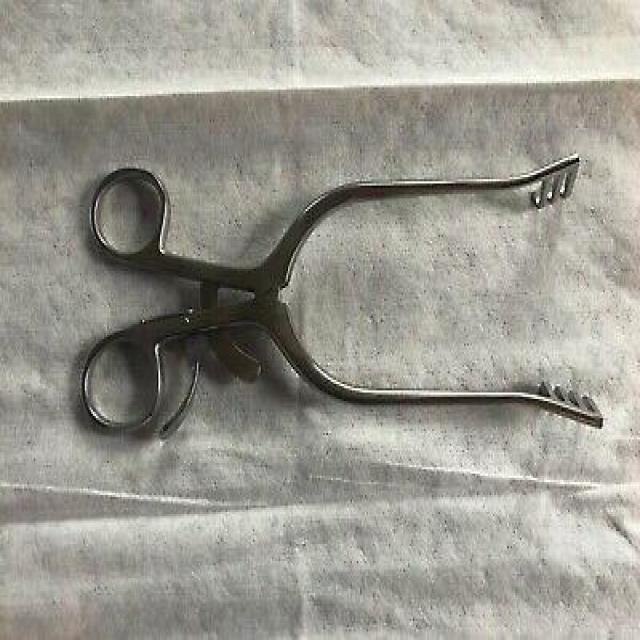Weitlaner: (70, 149, 608, 448)
